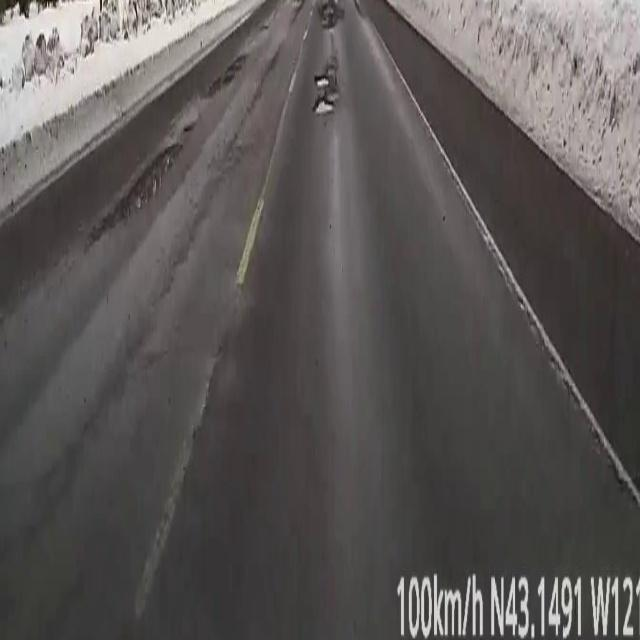pothole: (85, 140, 180, 247), (209, 52, 247, 88), (322, 0, 342, 28), (314, 97, 334, 116), (315, 76, 328, 88)
